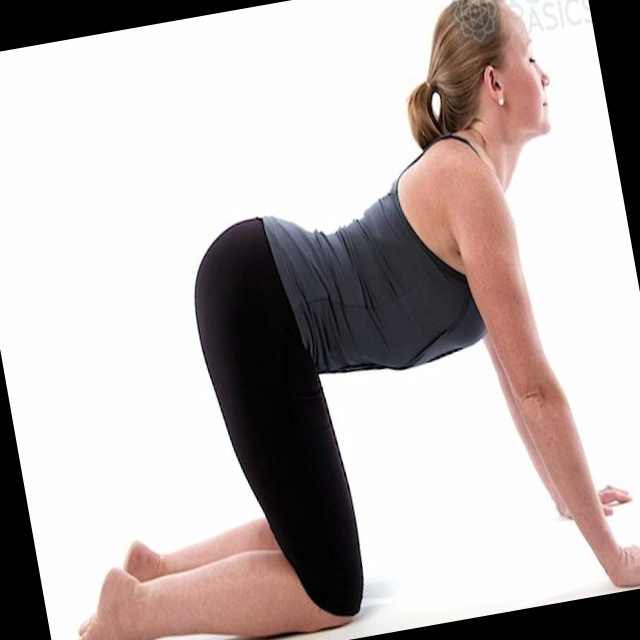Cow_Pose: (79, 4, 633, 632)
